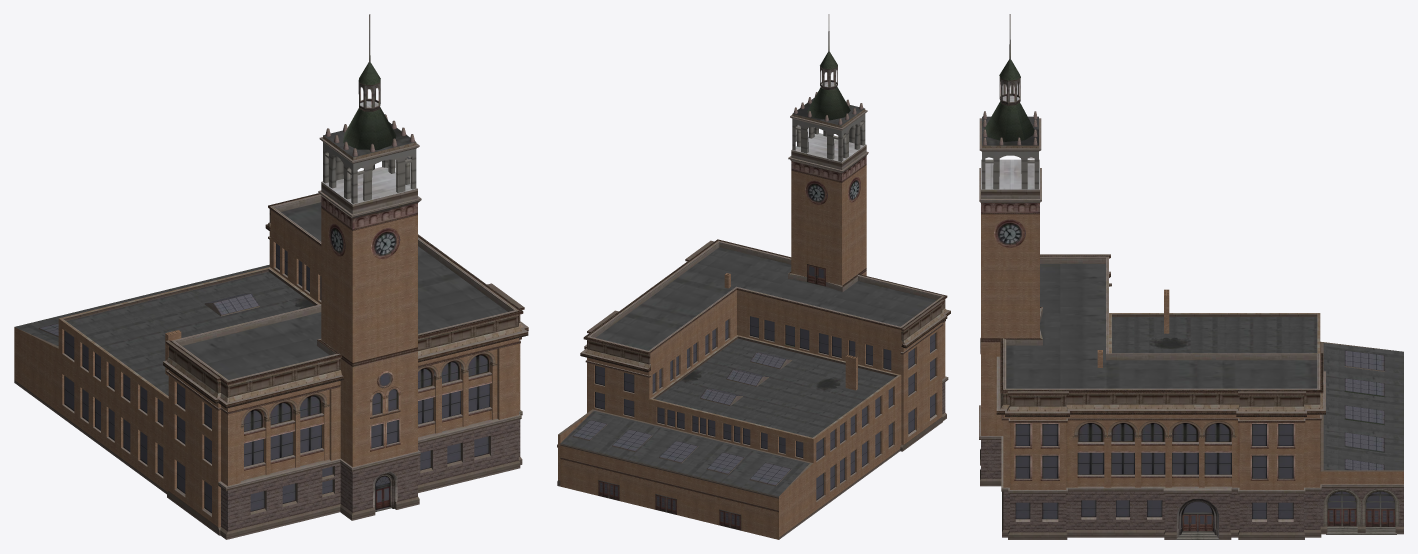
Rendered from big.glb.
3 renders of one model, left to right at view 1: azimuth 30°, elevation 25°; view 2: azimuth 150°, elevation 25°; view 3: azimuth 270°, elevation 25°, orthographic. The views are drawn at different scales.
Visible parts, largest first — view 1: Object_3, Object_4; view 2: Object_3, Object_4; view 3: Object_3, Object_4.
Part boxes in pixels (x1=…): Object_3: x1=14, y1=81, x2=528, y2=539; Object_4: x1=262, y1=14, x2=492, y2=508; Object_3: x1=557, y1=66, x2=950, y2=539; Object_4: x1=793, y1=14, x2=863, y2=159; Object_3: x1=979, y1=76, x2=1403, y2=539; Object_4: x1=983, y1=14, x2=1218, y2=538.
Size of the model in its own units: 3798 by 5707 by 4816.
1 material, 1 textured.
